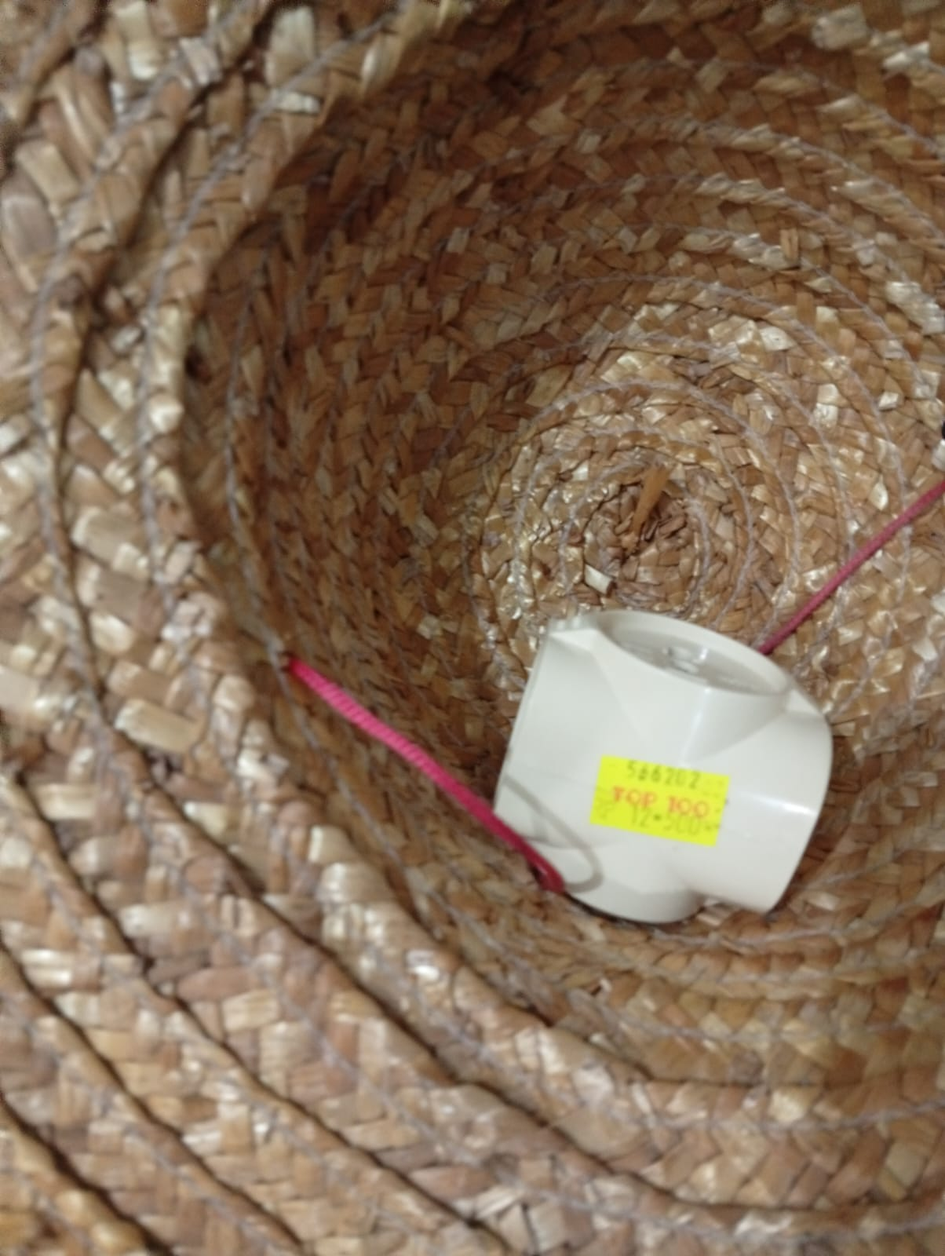Colokan: (486, 599, 840, 963)
